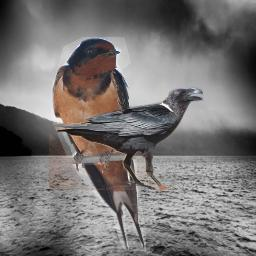Crow: (49, 85, 204, 190)
Swallow: (51, 37, 146, 251)
